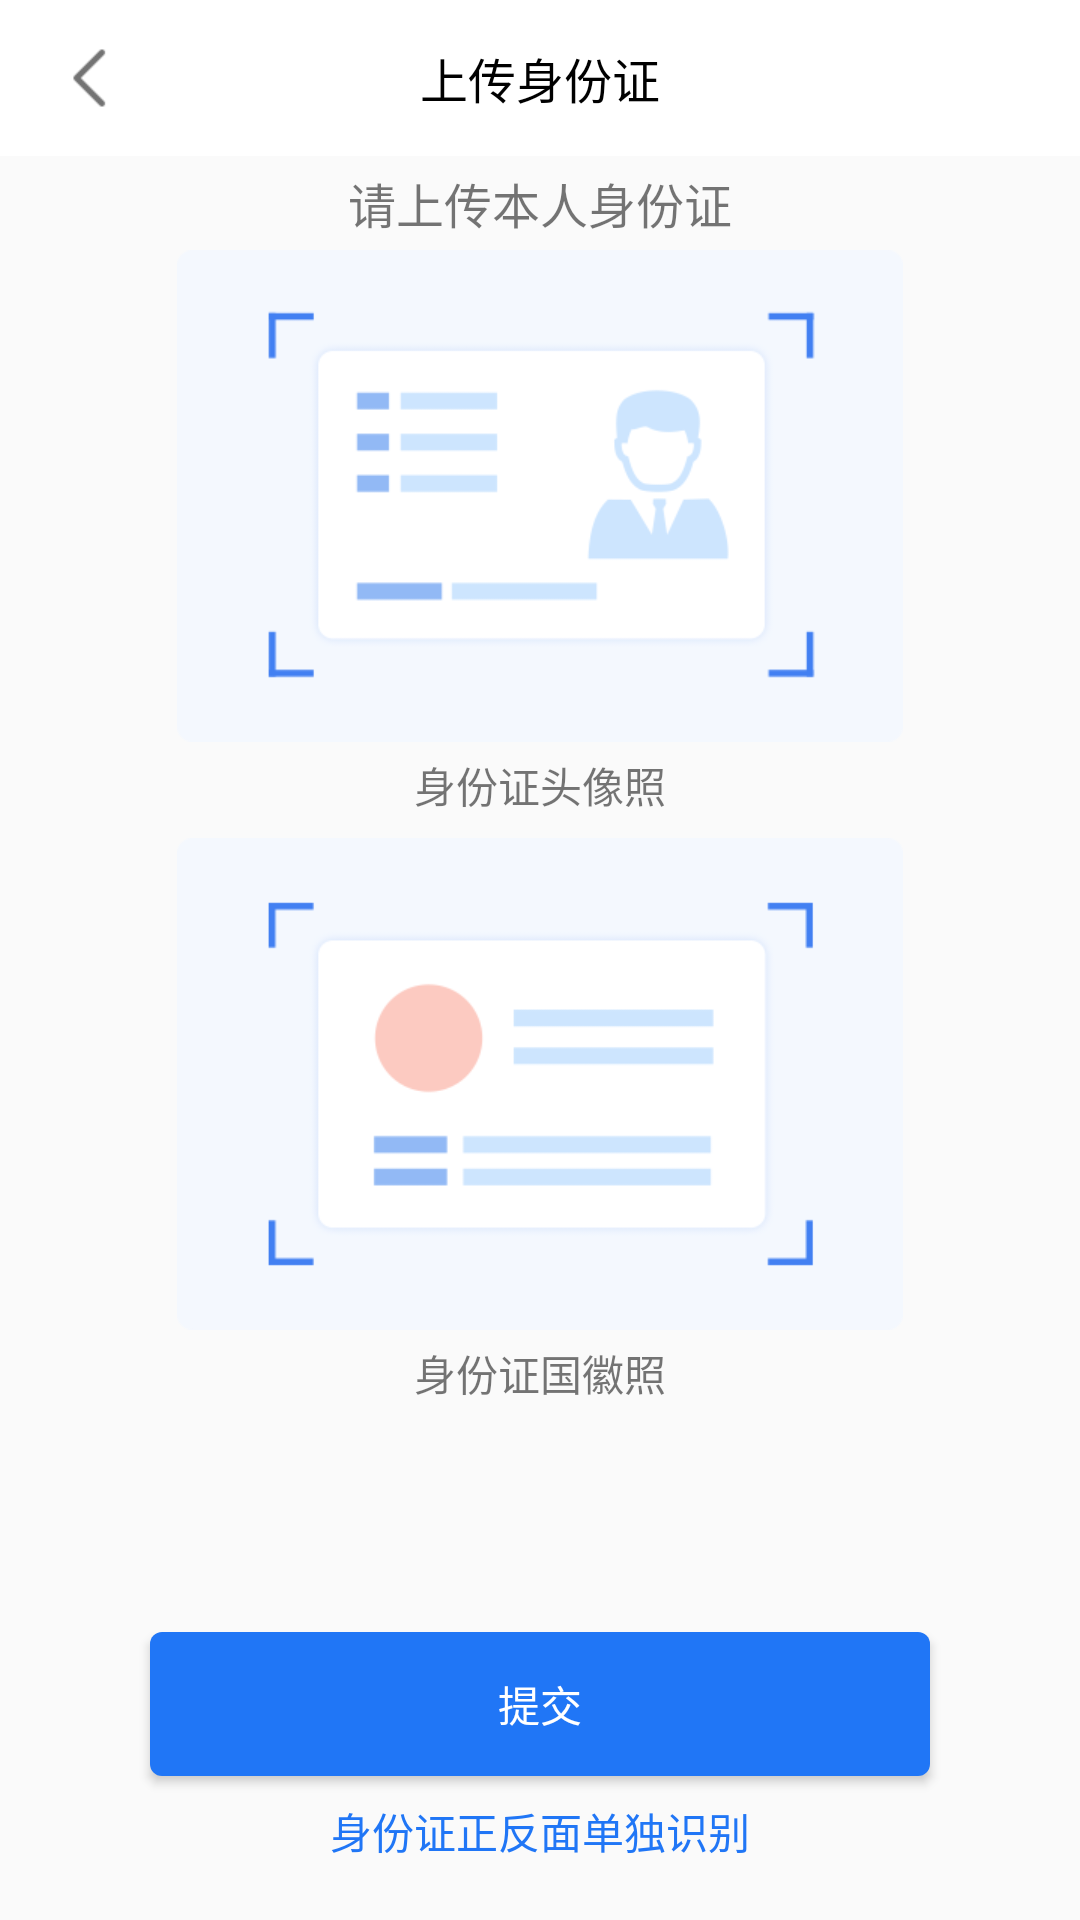

Screen size 1080w x 1920h. Icon name, then its box in pixels as (x1, y1, x2, y2):
back: (73, 49, 105, 107)
